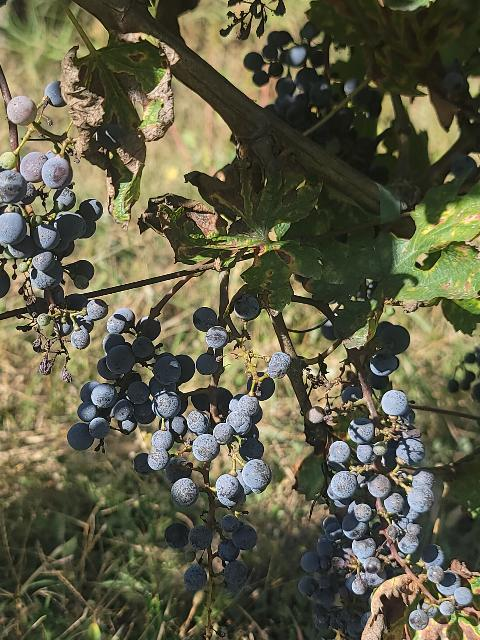grapes: (332, 390, 479, 640), (155, 308, 271, 591), (0, 96, 108, 381), (68, 308, 195, 450), (299, 515, 371, 640)
